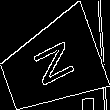N_SW: (26, 37, 77, 93)
